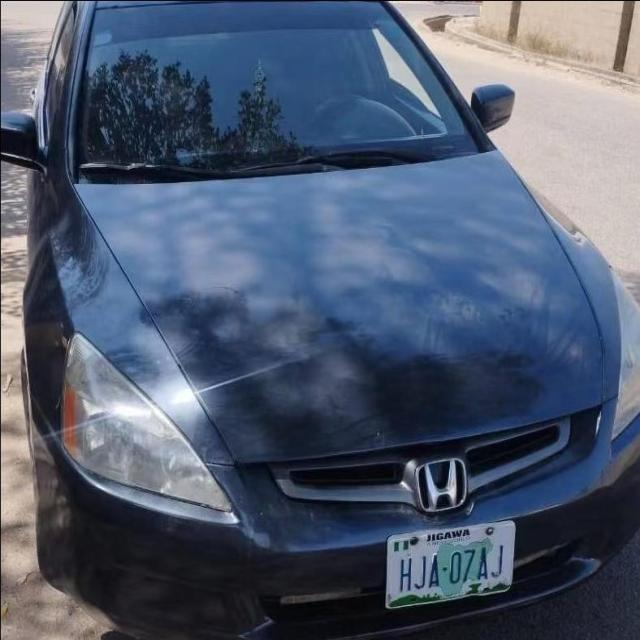Nigerian License Plate - vdataset benjamin-daria: (379, 514, 520, 616)
